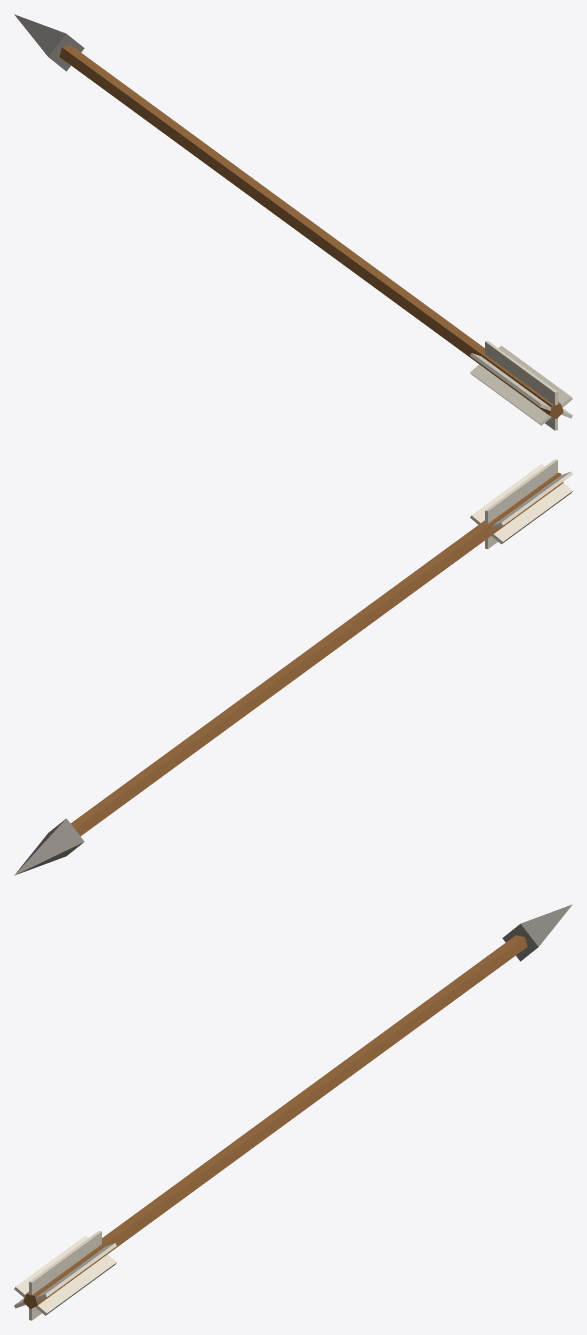
The model's file is Ammo_Arrow.fbx.
3 views of the same model, one above another, from view 1: azimuth 30°, elevation 25°; view 2: azimuth 150°, elevation 25°; view 3: azimuth 330°, elevation 25° (orthographic).
Visible parts, largest first — view 1: Ammo_Arrow; view 2: Ammo_Arrow; view 3: Ammo_Arrow.
Part boxes in pixels (left/top/right/bottom): Ammo_Arrow: left=14, top=14, right=572, bottom=430; Ammo_Arrow: left=14, top=459, right=572, bottom=875; Ammo_Arrow: left=14, top=904, right=572, bottom=1320.
Bounding box in the file's own units: 1.2 × 1.2 × 31.
